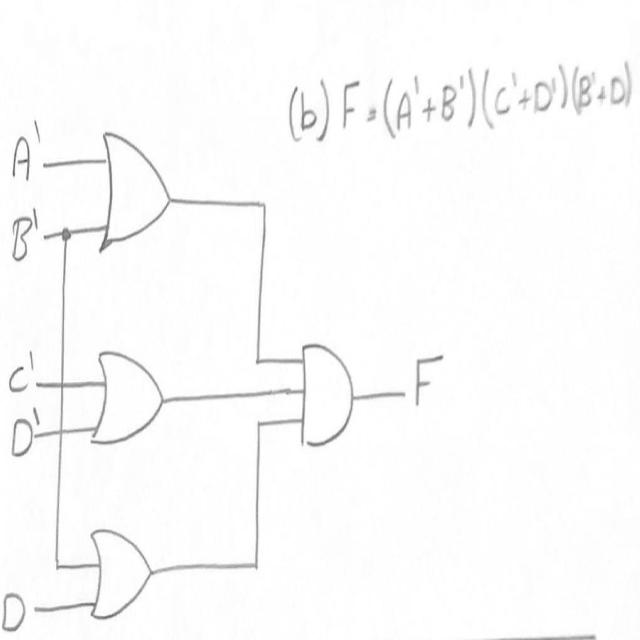AND: (285, 312, 363, 462)
OR: (97, 130, 179, 264), (91, 338, 175, 452), (74, 525, 160, 629)
